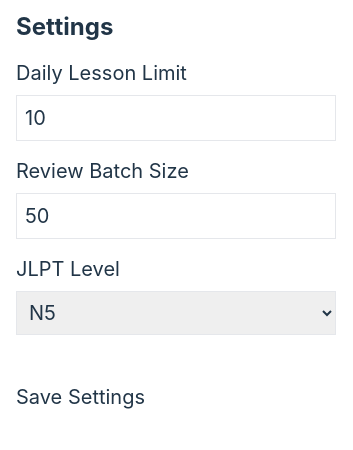
Test case: SettingsPage › shows success message after successful save
Expected: the number field labelled "Daily Lesson Limit" is shown, [16,95,336,141]
Click the button "Save Settings" at (80, 397), box [16,383,145,411]
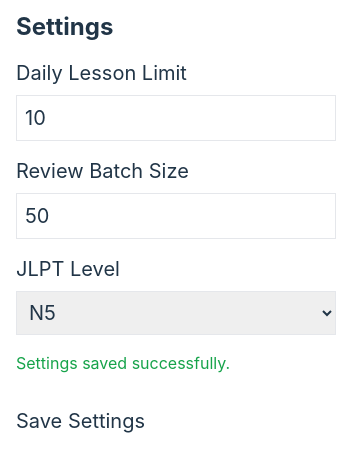
Now the message shows "Settings saved successfully", box [16,353,230,373]
